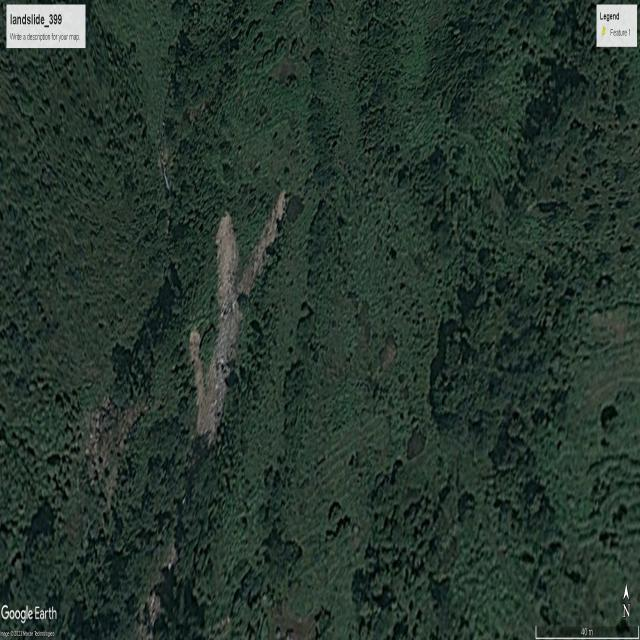Landslide: (182, 194, 254, 434)
